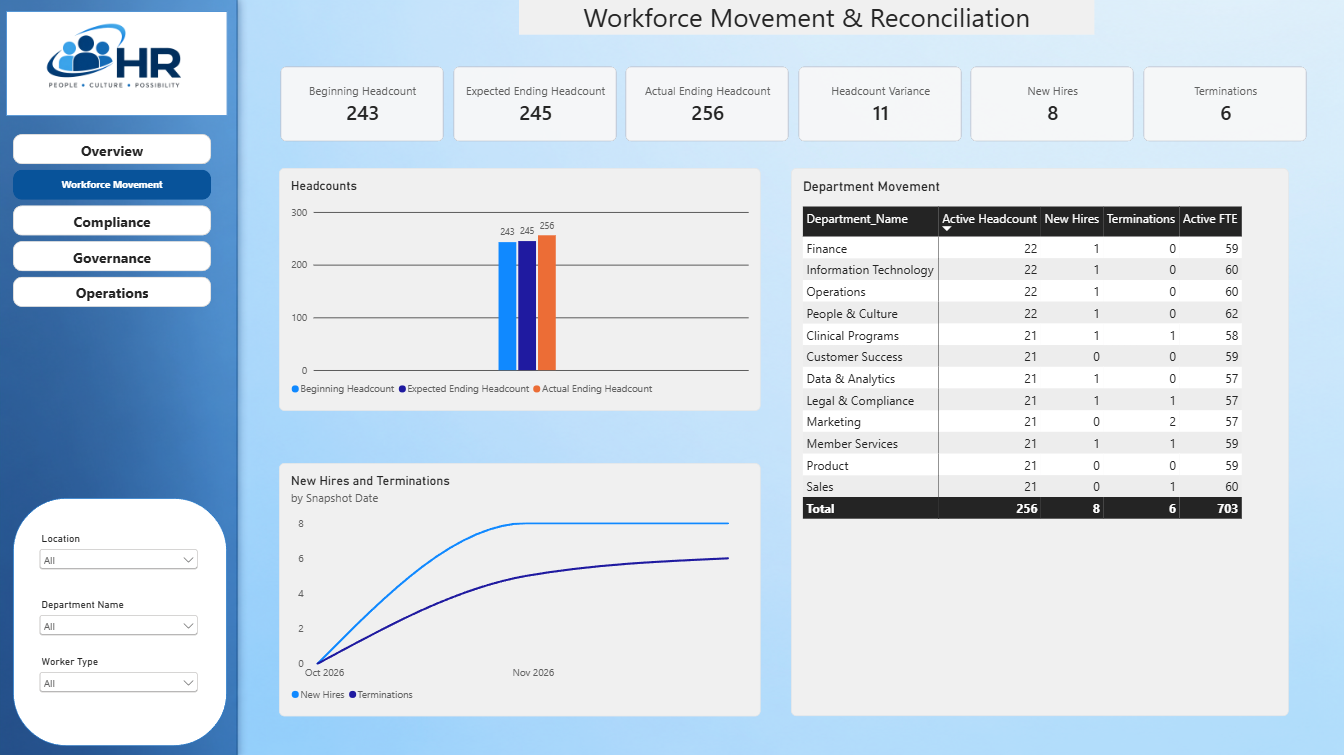

The page's visual inventory and layout, read from the dashboard file:
{"tool":"powerbi","page":{"name":"Workforce Movement","canvas":[1920,1080],"ordinal":1},"visuals":[{"type":"shape","box":[8.8,17.7,316.3,150.1],"z":0},{"type":"shape","box":[18.9,712.4,305.7,354.2],"z":1000},{"type":"textbox","box":[741.5,0,822.4,51.5],"z":2000},{"type":"pivotTable","title":"Department Movement","fields":{"Rows":["reporting vw_WorkforceTrusted.Department_Name"],"Values":["_Measures.Trusted Active Headcount","_Measures.New Hires","_Measures.Terminations","_Measures.Active FTE"]},"box":[1130.7,241,711,783.3],"z":3000},{"type":"clusteredColumnChart","title":"Headcounts","fields":{"Y":["_Measures.Beginning Headcount","_Measures.Expected Ending Headcount","_Measures.Actual Ending Headcount"]},"box":[398,240.9,688.4,346.8],"z":4000},{"type":"lineChart","fields":{"Category":["DimSnapshot.Snapshot Date"],"Y":["_Measures.New Hires","_Measures.Terminations"]},"box":[398,662.8,688.4,362.1],"z":5000},{"type":"cardVisual","fields":{"Data":["_Measures.Beginning Headcount"]},"box":[397.2,92.7,240,114.4],"z":6000},{"type":"cardVisual","fields":{"Data":["_Measures.Expected Ending Headcount"]},"box":[643.7,92.2,240,114.4],"z":7000},{"type":"cardVisual","fields":{"Data":["_Measures.Actual Ending Headcount"]},"box":[890.2,92.2,240,114.4],"z":8000},{"type":"cardVisual","fields":{"Data":["_Measures.Headcount Variance"]},"box":[1136.7,92.2,240,114.4],"z":9000},{"type":"cardVisual","fields":{"Data":["_Measures.New Hires"]},"box":[1383.1,92.2,240,114.4],"z":10000},{"type":"slicer","fields":{"Values":["reporting vw_WorkforceTrusted.Location"]},"box":[51.2,762.2,235.7,68.3],"z":11000},{"type":"slicer","fields":{"Values":["reporting vw_WorkforceTrusted.Department_Name"]},"box":[51.2,857.8,235.7,68.3],"z":12000},{"type":"slicer","fields":{"Values":["reporting vw_WorkforceTrusted.Worker_Type"]},"box":[51.2,938.6,235.7,68.3],"z":13000},{"type":"image","box":[0,0,325.1,150.1],"z":14000},{"type":"pageNavigator","box":[19.1,192.7,284,250.1],"z":15000},{"type":"cardVisual","fields":{"Data":["_Measures.Terminations"]},"box":[1629.6,92.2,240,114.4],"z":16000}]}

Visuals, with their boxes in screenshot pixels (x1, y1, x2, y2), scaled from the page's 1920x1080 canvas onto the 1344x755 screenshot:
shape: <bbox>6, 12, 228, 117</bbox>
shape: <bbox>13, 498, 227, 746</bbox>
textbox: <bbox>519, 0, 1095, 36</bbox>
"Department Movement" pivotTable: <bbox>791, 168, 1289, 716</bbox>
"Headcounts" clusteredColumnChart: <bbox>279, 168, 760, 411</bbox>
lineChart - DimSnapshot.Snapshot Date x _Measures.New Hires: <bbox>279, 463, 760, 716</bbox>
cardVisual - _Measures.Beginning Headcount: <bbox>278, 65, 446, 145</bbox>
cardVisual - _Measures.Expected Ending Headcount: <bbox>451, 64, 619, 144</bbox>
cardVisual - _Measures.Actual Ending Headcount: <bbox>623, 64, 791, 144</bbox>
cardVisual - _Measures.Headcount Variance: <bbox>796, 64, 964, 144</bbox>
cardVisual - _Measures.New Hires: <bbox>968, 64, 1136, 144</bbox>
slicer - reporting vw_WorkforceTrusted.Location: <bbox>36, 533, 201, 581</bbox>
slicer - reporting vw_WorkforceTrusted.Department_Name: <bbox>36, 600, 201, 647</bbox>
slicer - reporting vw_WorkforceTrusted.Worker_Type: <bbox>36, 656, 201, 704</bbox>
image: <bbox>0, 0, 228, 105</bbox>
pageNavigator: <bbox>13, 135, 212, 310</bbox>
cardVisual - _Measures.Terminations: <bbox>1141, 64, 1309, 144</bbox>
